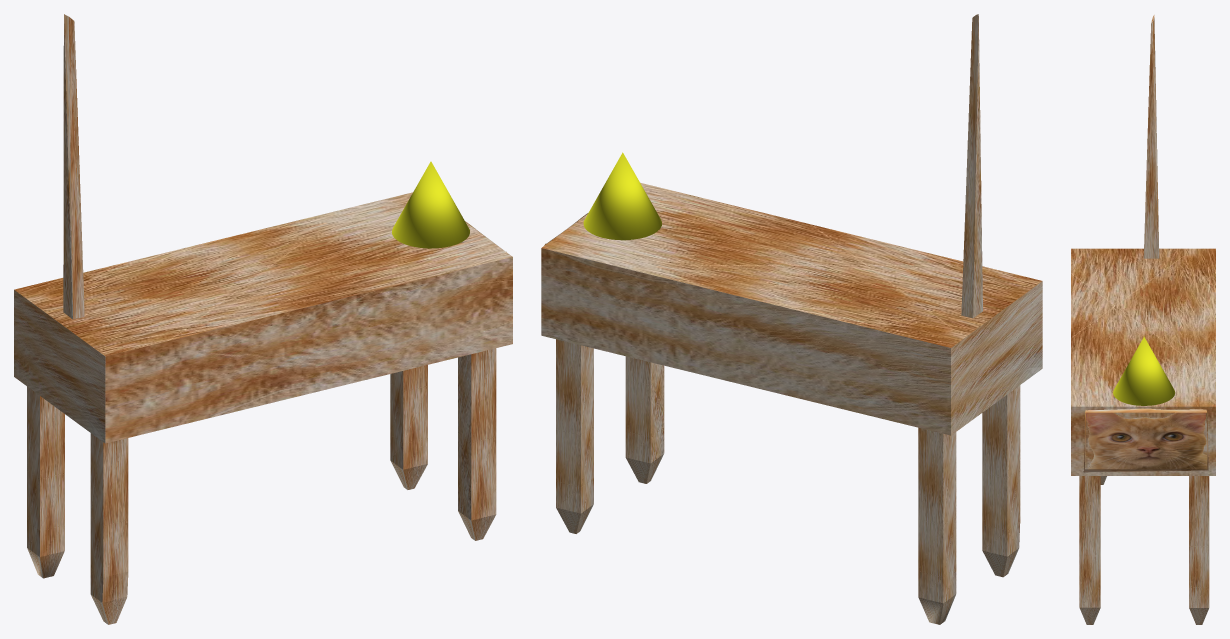
Rendered from kiisu.dae.
3 views of the same model, side by side, from view 1: azimuth 30°, elevation 25°; view 2: azimuth 150°, elevation 25°; view 3: azimuth 270°, elevation 25° (orthographic). The views are drawn at different scales.
Visible parts, largest first — view 1: Cube.007, Cube.001, Cube.003, Cube.004, Cube.005, Cube.002, Cone; view 2: Cube.007, Cube.004, Cube.002, Cube.003, Cube.001, Cube.005, Cone; view 3: Cube.007, Cube.006, Cube.001, Cube.002, Cone, Cube.005.
Part boxes in pixels (<box>): Cube.007: <box>14,192,512,443</box>; Cube.001: <box>458,348,496,540</box>; Cube.003: <box>90,433,128,624</box>; Cube.004: <box>27,386,64,578</box>; Cube.005: <box>63,14,84,319</box>; Cube.002: <box>390,365,427,489</box>; Cone: <box>392,161,469,248</box>; Cube.007: <box>541,183,1042,435</box>; Cube.004: <box>918,427,956,624</box>; Cube.002: <box>556,339,593,533</box>; Cube.003: <box>982,385,1020,577</box>; Cube.001: <box>625,356,664,483</box>; Cube.005: <box>961,14,982,318</box>; Cone: <box>583,152,661,240</box>; Cube.007: <box>1071,248,1215,475</box>; Cube.006: <box>1083,408,1208,472</box>; Cube.001: <box>1079,476,1100,624</box>; Cube.002: <box>1189,476,1209,624</box>; Cone: <box>1113,336,1175,405</box>; Cube.005: <box>1143,15,1159,258</box>.
Bounding box in the file's own units: 1.05 × 0.4043 × 1.43.
